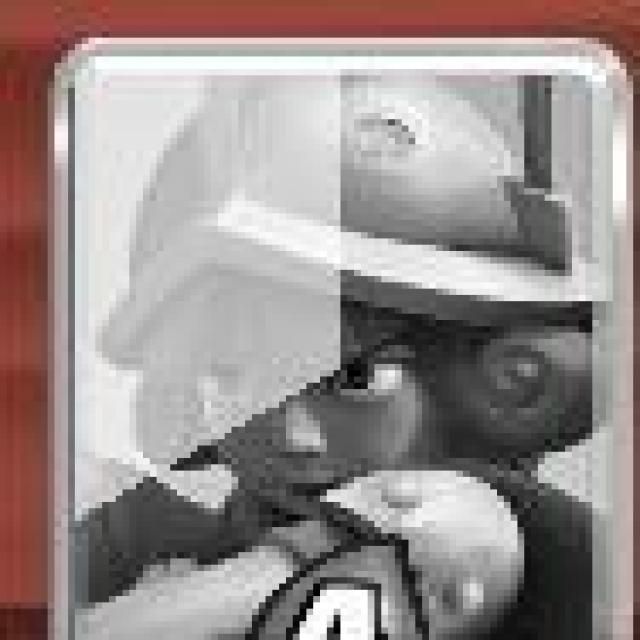Musketeer: (52, 48, 636, 640)
